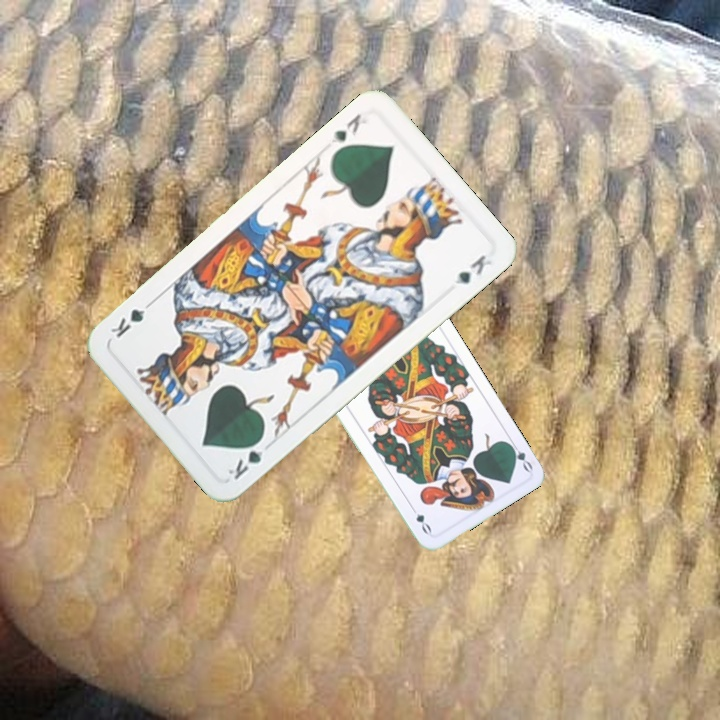GK: (224, 433, 267, 482), (327, 109, 370, 148)
GO: (504, 437, 535, 474)
